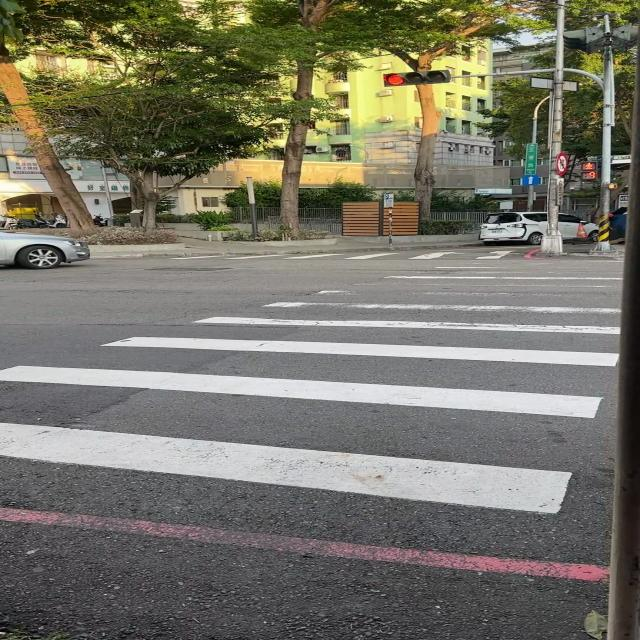car: (0, 232, 90, 269), (479, 211, 547, 245), (558, 215, 598, 239)
crosswalk: (0, 260, 624, 515), (159, 250, 518, 259)
